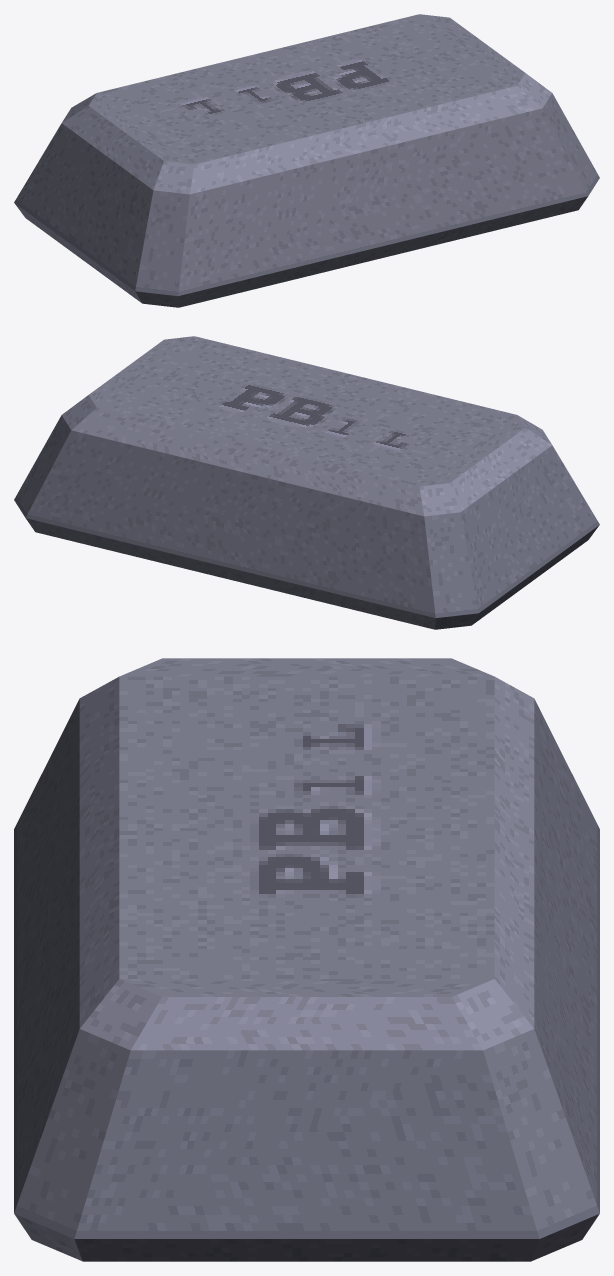
File: 1l_lead.glb
3 renders of one model, top to bottom at view 1: azimuth 30°, elevation 25°; view 2: azimuth 150°, elevation 25°; view 3: azimuth 270°, elevation 25°, orthographic. The views are drawn at different scales.
Parts seen in each view (by area): view 1: block_one-piece cast ingot; view 2: block_one-piece cast ingot; view 3: block_one-piece cast ingot.
Boxes of the visible parts, x1=… form: block_one-piece cast ingot: x1=14, y1=14, x2=599, y2=307; block_one-piece cast ingot: x1=14, y1=336, x2=599, y2=629; block_one-piece cast ingot: x1=14, y1=658, x2=599, y2=1261.
Bounding box in the file's own units: 0.181 × 0.0436 × 0.103.
Materials: 1 (1 with a texture image).
